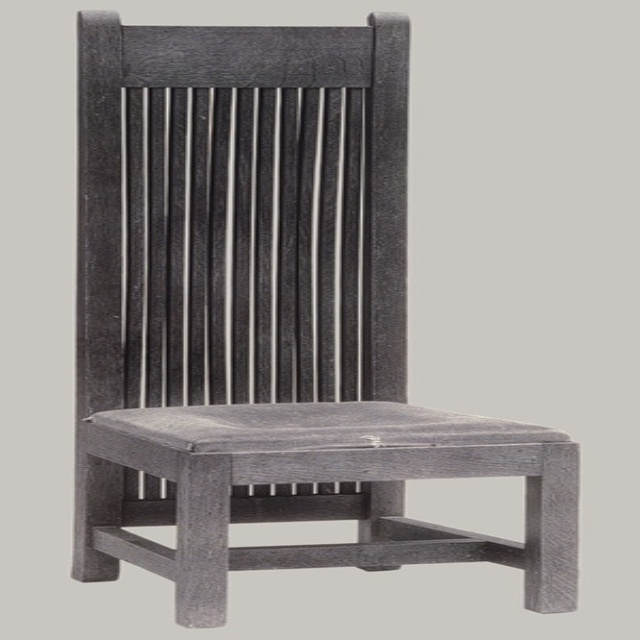obstacle: (73, 12, 576, 627)
